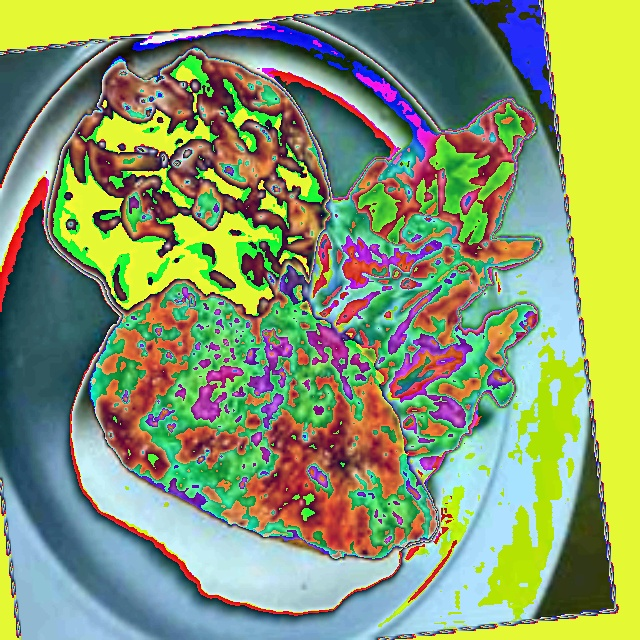background: (68, 43, 547, 562)
